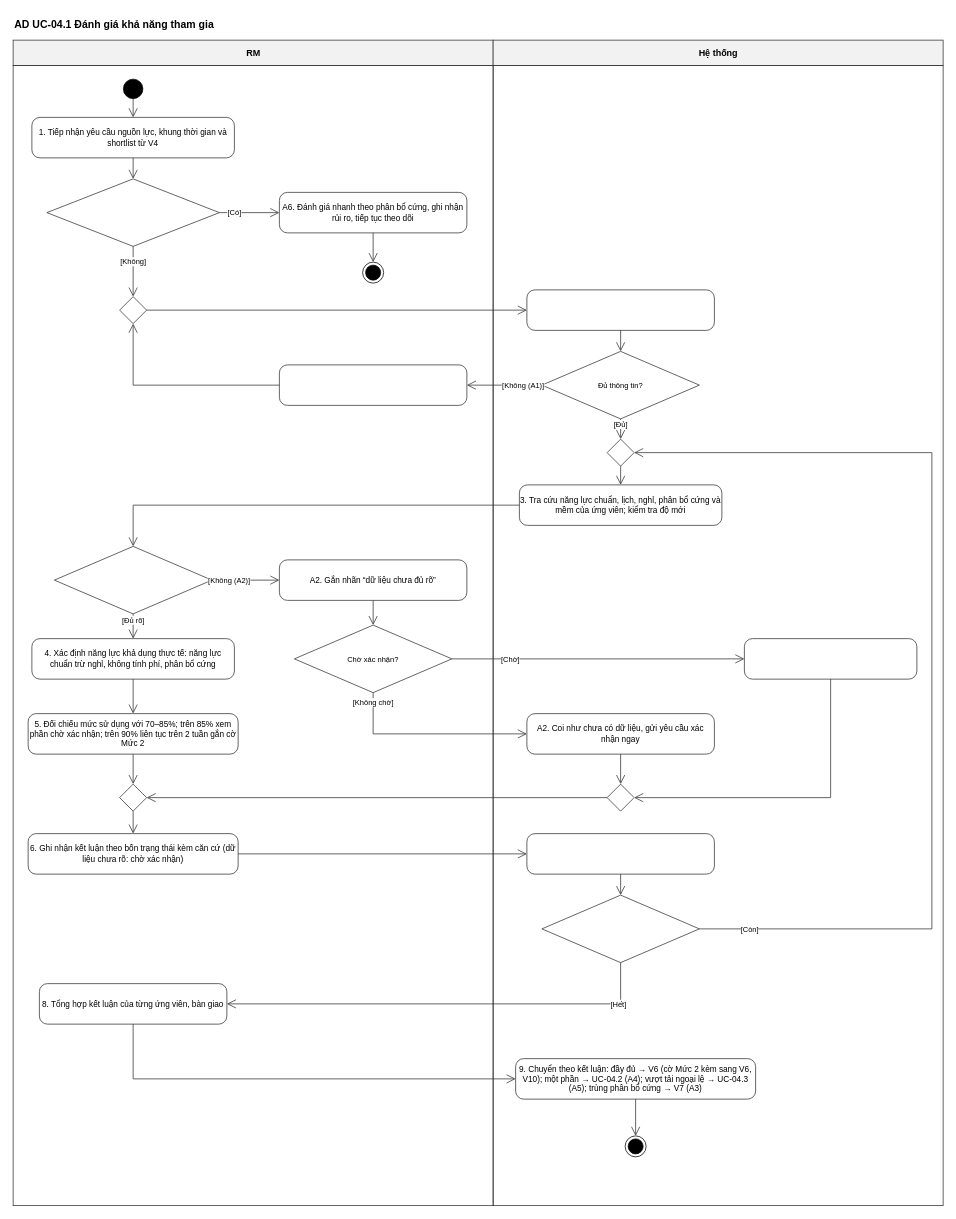
This 956x1219 diagram has some shape labels left out. The centre of each missing label's shape, as x and y in pixels:
2. Kiểm tra đầu vào: yêu cầu, khung thời gian, shortlist: [620,309]
7. Lưu kết luận và căn cứ của ứng viên: [620,853]
A1. Yêu cầu bổ sung, xác nhận thông tin; chưa kết luận: [373,384]
A2. Đặt chờ xác nhận trong 2 ngày làm việc: [830,658]
Còn ứng viên cần đánh giá?: [620,928]
Dữ liệu đủ rõ?: [133,580]
Yêu cầu gấp, thời hạn dưới 24–48 giờ?: [132,212]
